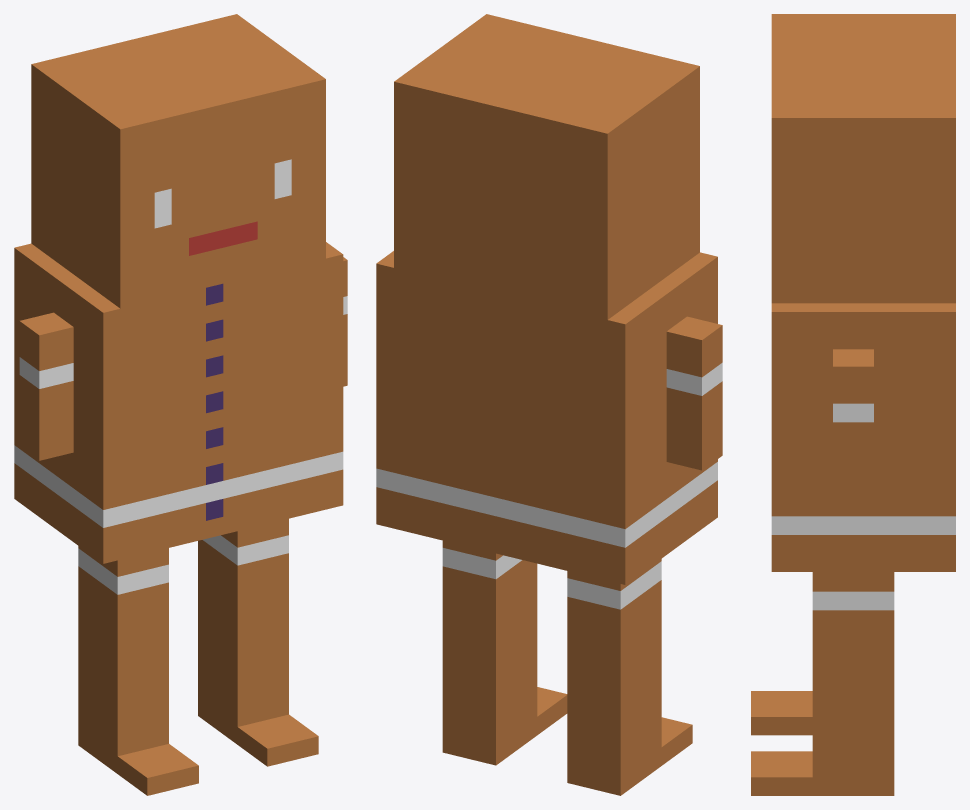
File: Player15.obj
The picture shows the model from 3 angles, left to right: view 1: azimuth 30°, elevation 25°; view 2: azimuth 150°, elevation 25°; view 3: azimuth 270°, elevation 25°; orthographic projection. The views are drawn at different scales.
Visible parts, largest first — view 1: Player15; view 2: Player15; view 3: Player15.
Boxes of the visible parts, box(x1,y1,x2,y2) form: Player15: box(14, 14, 347, 795); Player15: box(376, 14, 722, 795); Player15: box(751, 14, 955, 795).
Size of the model in its own units: 18 by 37 by 10.
